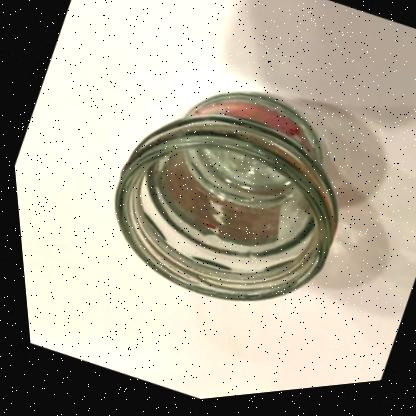Glass: (111, 96, 333, 303)
